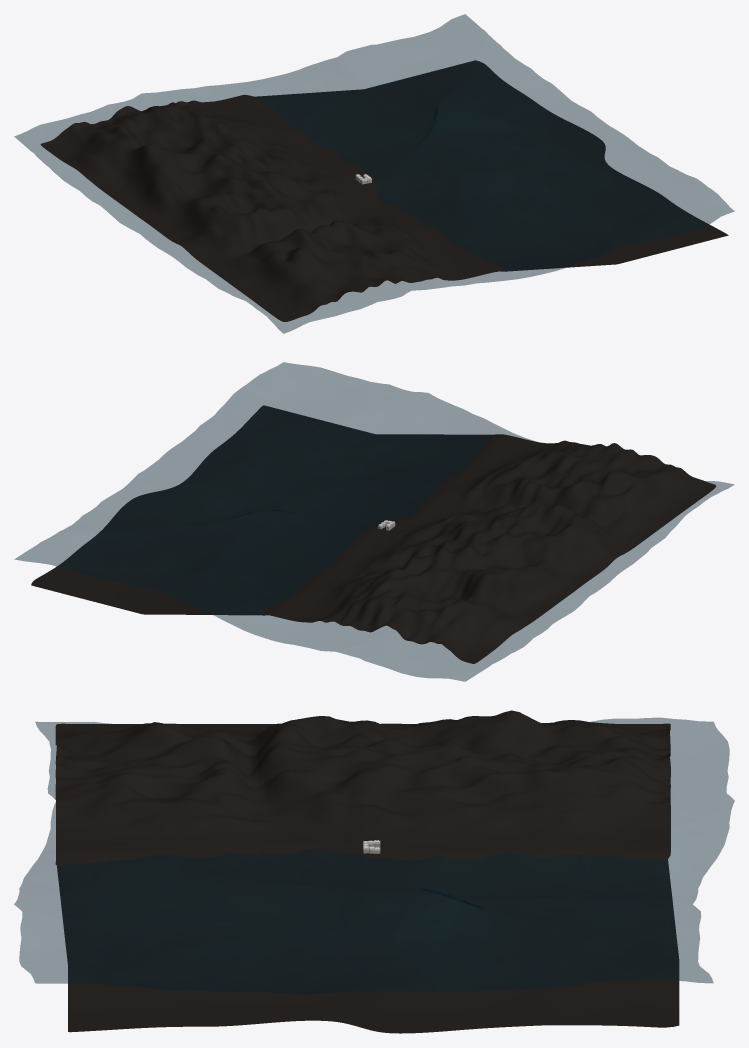
File: miromar_map_draft.glb
The picture shows the model from 3 angles, top to bottom: view 1: azimuth 30°, elevation 25°; view 2: azimuth 150°, elevation 25°; view 3: azimuth 270°, elevation 25°; orthographic projection. The views are drawn at different scales.
Parts seen in each view (by area): view 1: Plane.001, Water; view 2: Plane.001, Water; view 3: Plane.001, Water.
Boxes of the visible parts, bbox=[...] form: Plane.001: bbox=[40, 60, 728, 321]; Water: bbox=[14, 14, 734, 333]; Plane.001: bbox=[31, 405, 716, 663]; Water: bbox=[14, 362, 734, 681]; Plane.001: bbox=[55, 710, 679, 1033]; Water: bbox=[14, 717, 734, 994].
Size of the model in its own units: 8.27 by 1.03 by 8.8.
Materials: 4 (3 with a texture image).
